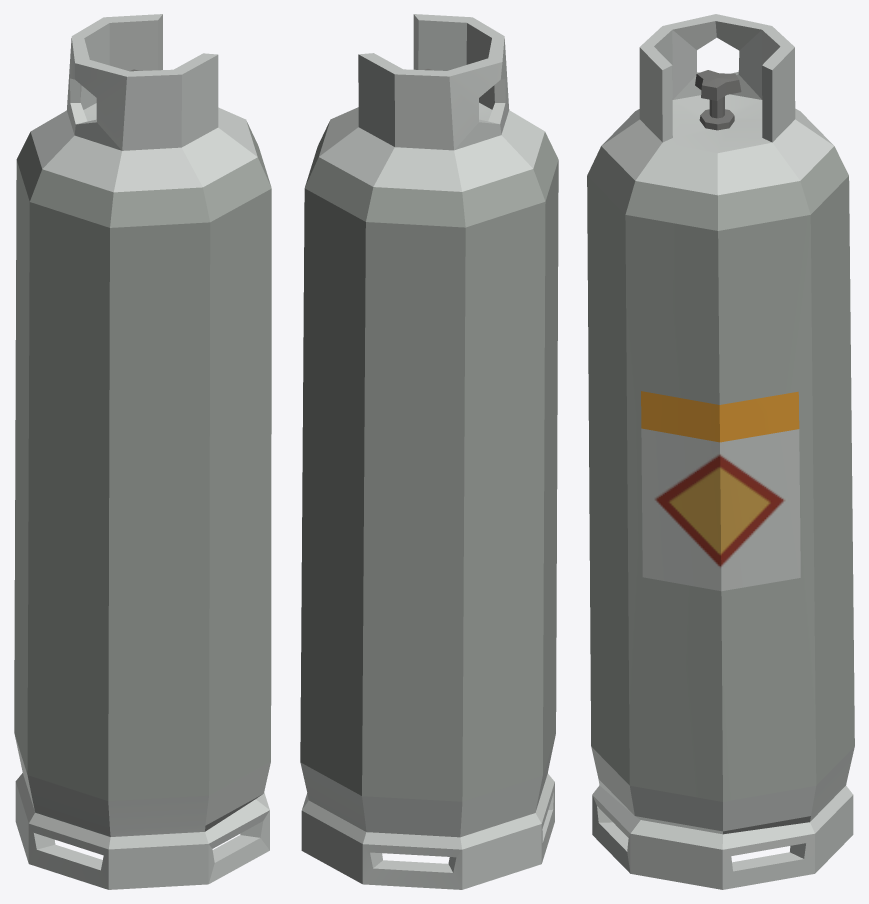
Rendered from SM_Prop_Propane_Tall_02.obj.
3 renders of one model, left to right at view 1: azimuth 30°, elevation 25°; view 2: azimuth 150°, elevation 25°; view 3: azimuth 270°, elevation 25°, orthographic.
Parts seen in each view (by area): view 1: SM_Prop_Propane_Tall_02_0; view 2: SM_Prop_Propane_Tall_02_0; view 3: SM_Prop_Propane_Tall_02_0.
Boxes of the visible parts, box(x1,y1,x2,y2) form: SM_Prop_Propane_Tall_02_0: box(14, 14, 271, 889); SM_Prop_Propane_Tall_02_0: box(300, 14, 558, 889); SM_Prop_Propane_Tall_02_0: box(587, 14, 854, 889).
Bounding box in the file's own units: 0.457 × 1.5 × 0.4637.
1 material, 1 textured.
